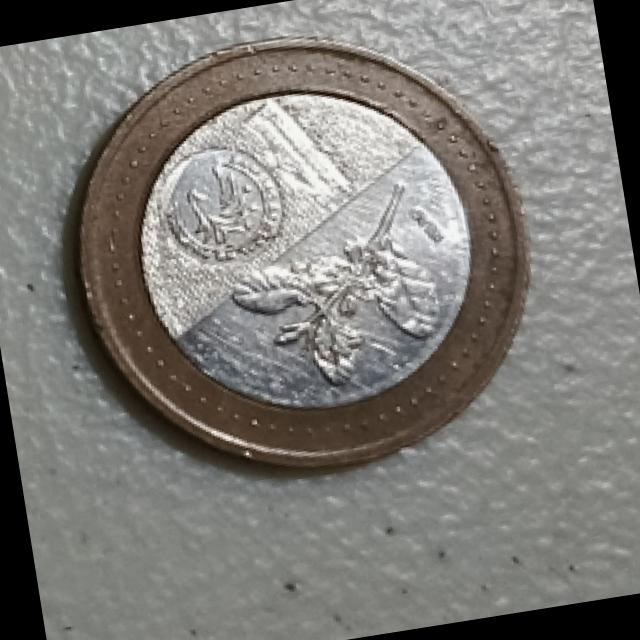20_peso: (79, 39, 527, 465)
